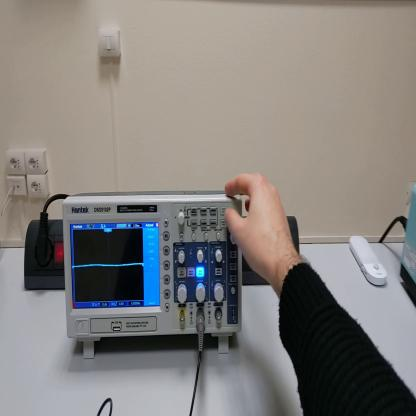hand: (224, 172, 295, 283)
oscilloscope: (62, 191, 242, 361)
socket: (23, 221, 67, 295)
welder station: (403, 185, 416, 305)
